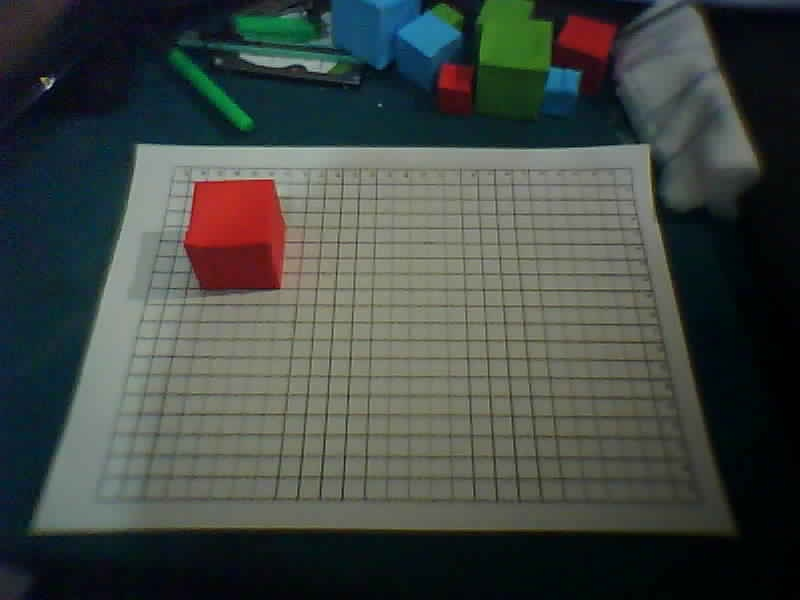red(4x4x4): (181, 173, 301, 304)
